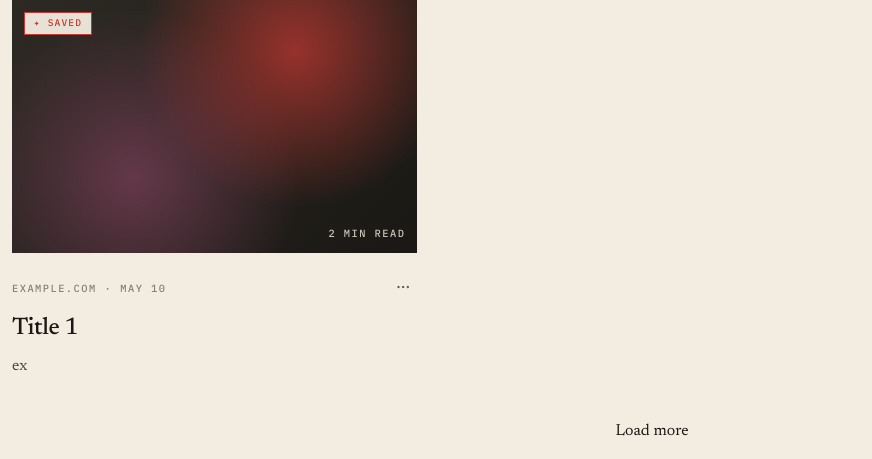
LibraryGrid › clicking Load more fetches the next page
The width and height of the screenshot is (872, 459).
Expected: the heading "Title 1" is shown, [12,316,78,340]
Click the button "Load more". click: (652, 430)
box: [615,418,688,442]
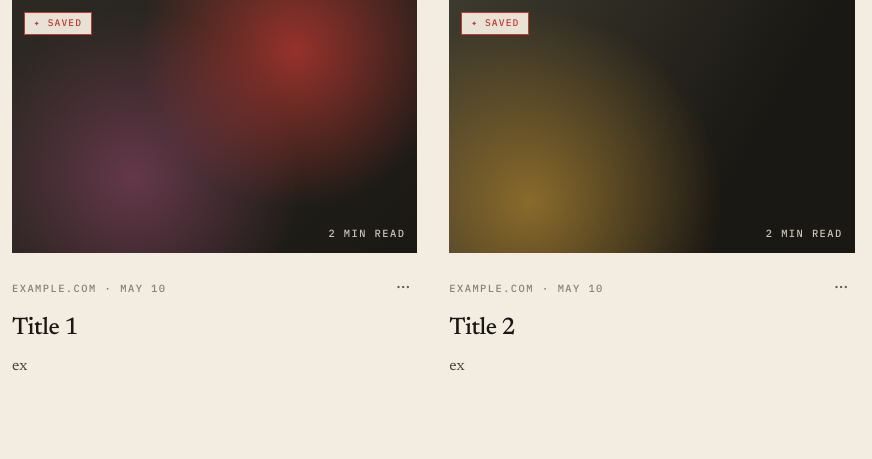
Now the heading "Title 2" is shown, box [449,316,515,340]
